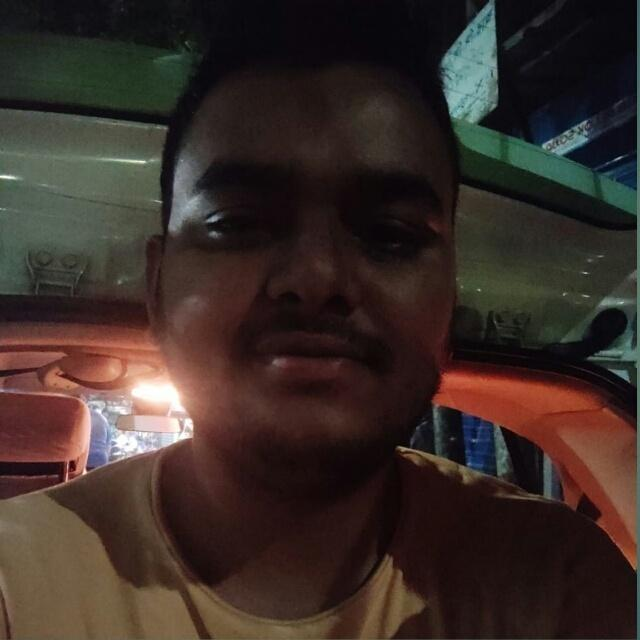Happy: (122, 79, 509, 490)
